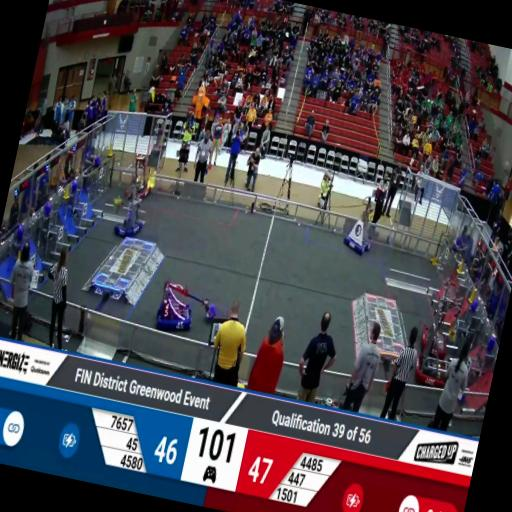robot: (150, 276, 222, 340), (416, 288, 468, 361), (340, 191, 385, 258), (112, 170, 154, 241), (123, 150, 158, 202), (412, 346, 450, 388)
